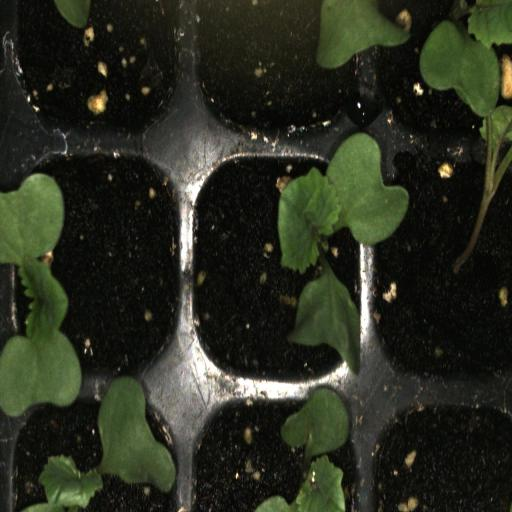Folha: (277, 132, 409, 272), (290, 265, 360, 374)
Germinacao: (187, 137, 368, 383), (8, 138, 188, 384), (368, 138, 512, 385), (8, 385, 190, 512)
